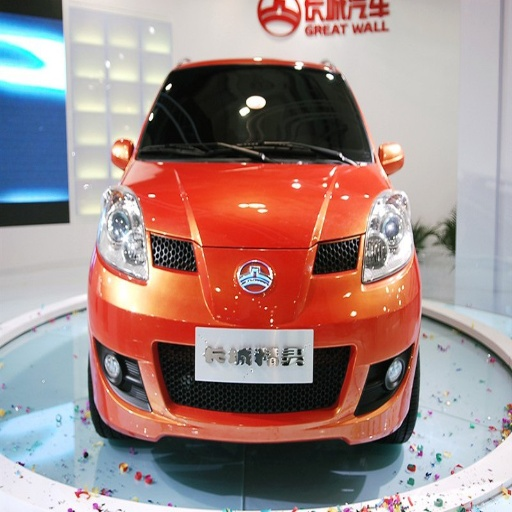front_bumper: (97, 234, 418, 440)
front_right_light: (97, 187, 193, 283)
hood: (126, 160, 386, 247)
